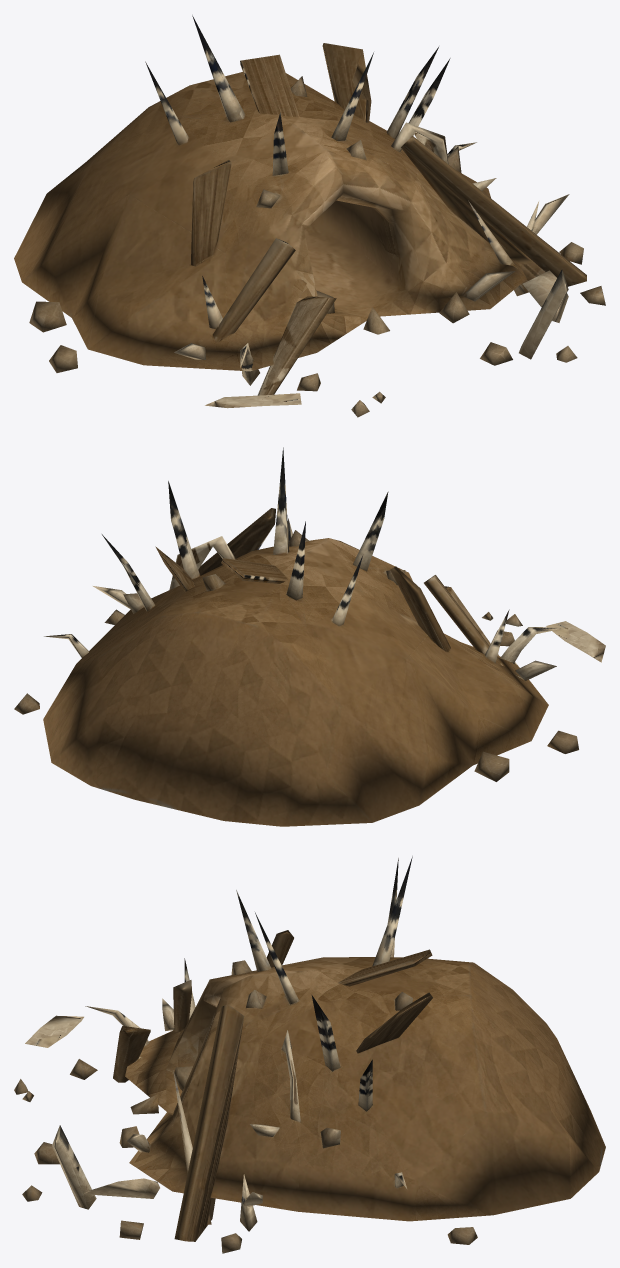
File: Desert Pred Lair.glb
The picture shows the model from 3 angles, top to bottom: view 1: azimuth 30°, elevation 25°; view 2: azimuth 150°, elevation 25°; view 3: azimuth 270°, elevation 25°; orthographic projection. The views are drawn at different scales.
Bounding box in the file's own units: 2 × 0.9842 × 1.98.
Materials: 1 (1 with a texture image).
